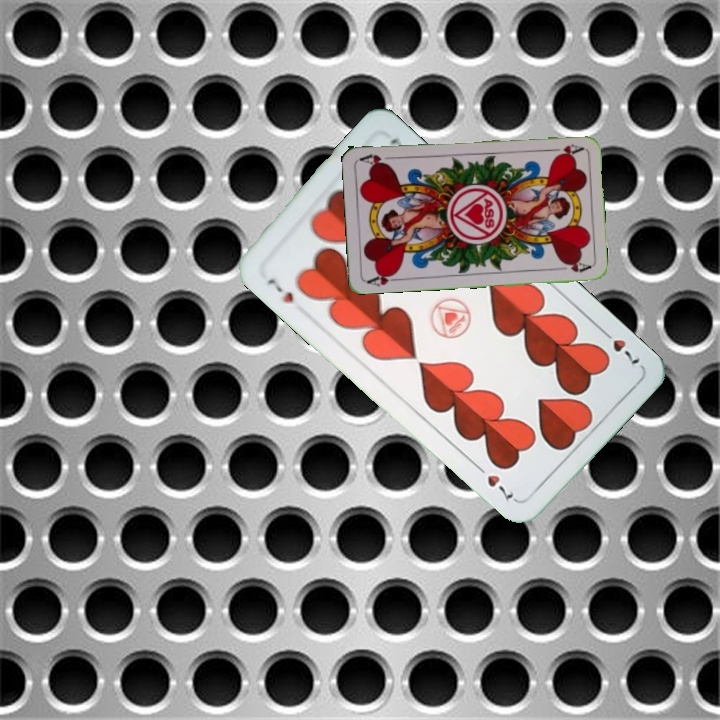H7: (596, 324, 643, 368), (263, 274, 296, 306)
HA: (363, 268, 403, 289), (545, 140, 585, 158)
